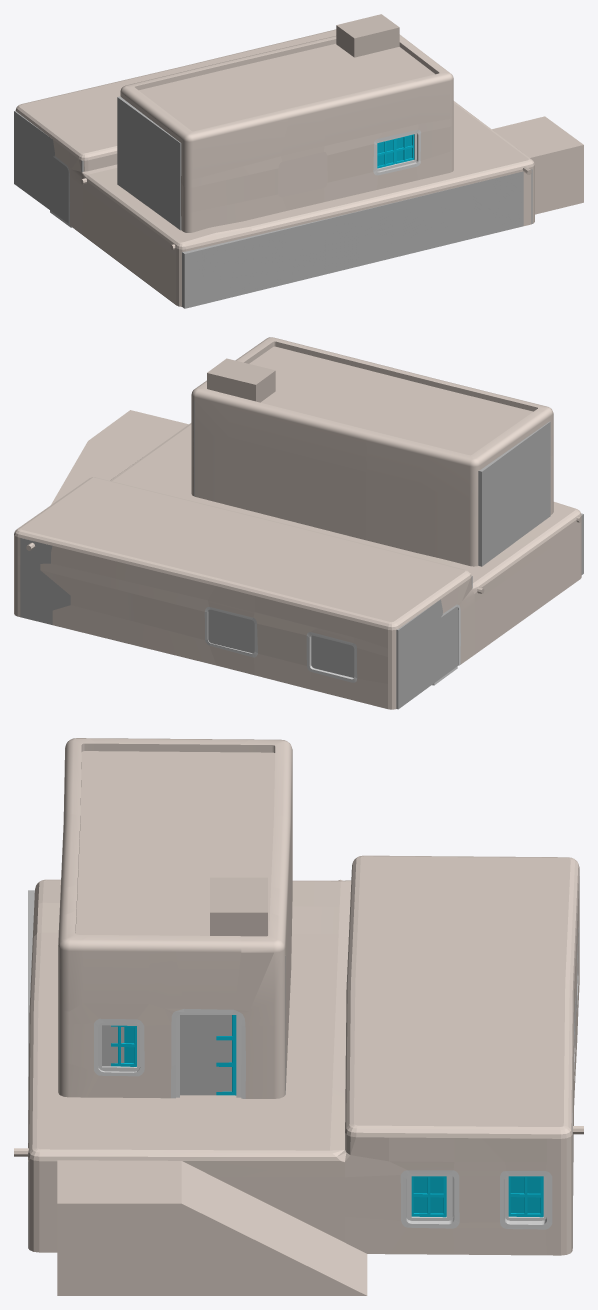
Rendered from house.fbx.
3 views of the same model, one above another, from view 1: azimuth 30°, elevation 25°; view 2: azimuth 150°, elevation 25°; view 3: azimuth 270°, elevation 25° (orthographic). The views are drawn at different scales.
Visible parts, largest first — view 1: house, AAAA:pCube1.001, AAAA:pCube1.001_cell.044, AAAA:pCube1.001_cell.013, AAAA:pCube1.001_cell.001, AAAA:pCube1.001_cell.039, AAAA:pCube1.001_cell.015, AAAA:pCube1.001_cell.040, AAAA:pCube1.001_cell.020, AAAA:pCube1.001_cell.038, AAAA:pCube1.001_cell.010, AAAA:pCube1.001_cell.036 (+1 smaller); view 2: house, AAAA:pCube1.001, AAAA:pCube1.001_cell.013, AAAA:pCube1.001_cell.040, AAAA:pCube1.001_cell.015, AAAA:pCube1.001_cell.027, AAAA:pCube1.001_cell.036, AAAA:pCube1.001_cell.008, AAAA:pCube1.001_cell.020, AAAA:pCube1.001_cell.007; view 3: house, AAAA:pCube1.001, AAAA:pCube1.001_cell.068.
Part boxes in pixels (x1,y1,x2,y2): house: (15, 14, 583, 306); AAAA:pCube1.001: (14, 96, 532, 308); AAAA:pCube1.001_cell.044: (388, 210, 491, 259); AAAA:pCube1.001_cell.013: (14, 169, 62, 218); AAAA:pCube1.001_cell.001: (491, 201, 532, 233); AAAA:pCube1.001_cell.039: (490, 171, 523, 205); AAAA:pCube1.001_cell.015: (119, 111, 146, 169); AAAA:pCube1.001_cell.040: (146, 119, 171, 184); AAAA:pCube1.001_cell.020: (14, 139, 54, 172); AAAA:pCube1.001_cell.038: (288, 203, 393, 235); AAAA:pCube1.001_cell.010: (184, 252, 203, 299); AAAA:pCube1.001_cell.036: (147, 177, 169, 221); house: (14, 337, 581, 709); AAAA:pCube1.001: (20, 418, 583, 708); AAAA:pCube1.001_cell.013: (396, 627, 451, 709); AAAA:pCube1.001_cell.040: (513, 432, 540, 506); AAAA:pCube1.001_cell.015: (483, 460, 513, 522); AAAA:pCube1.001_cell.027: (311, 644, 354, 677); AAAA:pCube1.001_cell.036: (516, 494, 538, 538); AAAA:pCube1.001_cell.008: (533, 473, 550, 524); AAAA:pCube1.001_cell.020: (396, 645, 426, 694); AAAA:pCube1.001_cell.007: (540, 422, 550, 479); house: (14, 738, 583, 1295); AAAA:pCube1.001: (28, 890, 572, 1248); AAAA:pCube1.001_cell.068: (180, 1015, 285, 1078).
Size of the model in its own units: 66.03 by 27.04 by 49.46.
